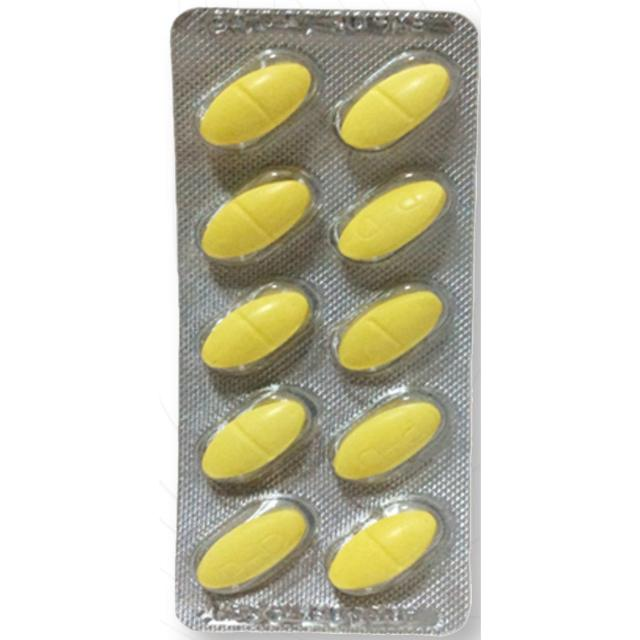blister: (167, 4, 478, 636)
